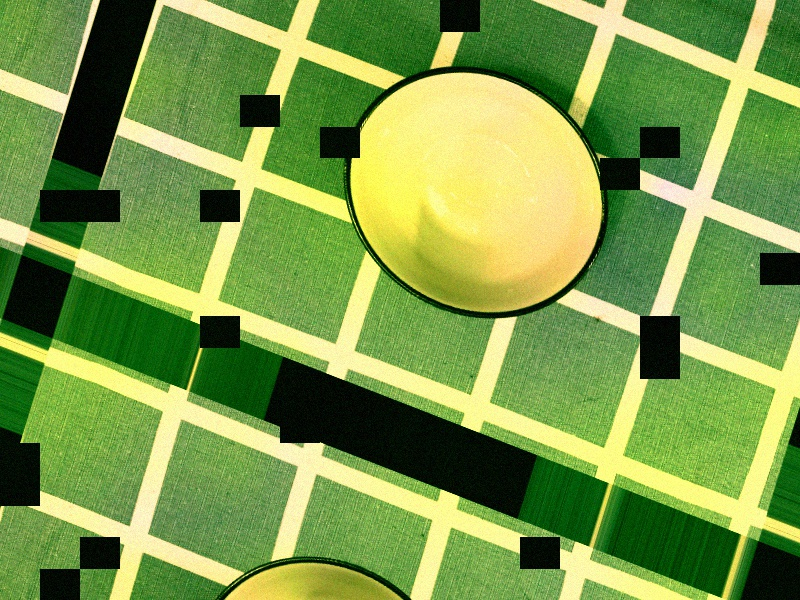bowl_small: (304, 17, 649, 366)
